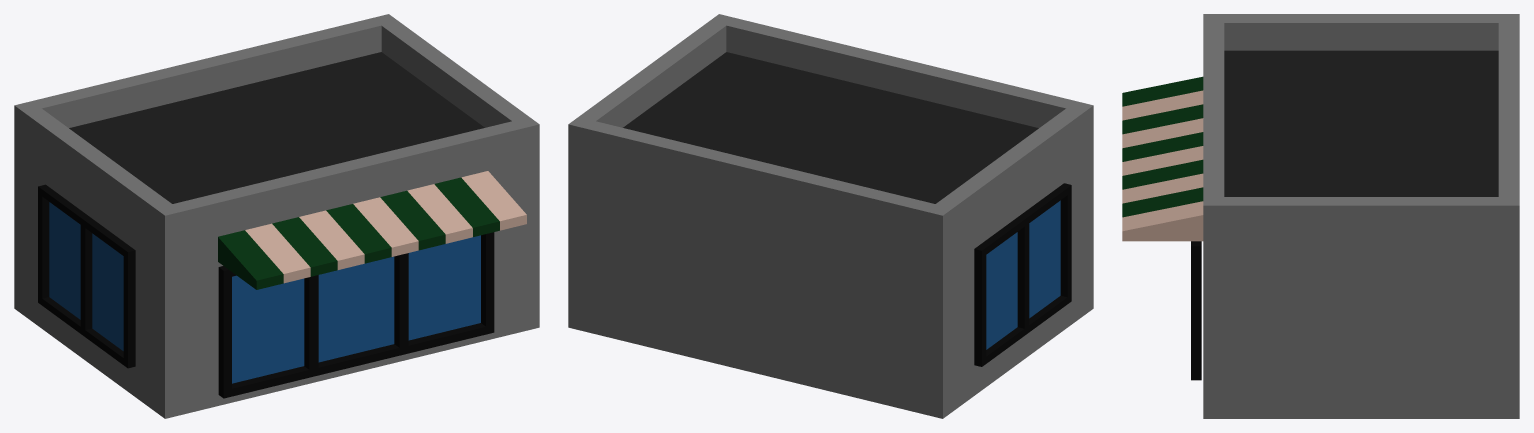
The picture shows the model from 3 angles, left to right: view 1: azimuth 30°, elevation 25°; view 2: azimuth 150°, elevation 25°; view 3: azimuth 270°, elevation 25°; orthographic projection. The views are drawn at different scales.
Visible parts, largest first — view 1: Cube.058; view 2: Cube.058; view 3: Cube.058.
Boxes of the visible parts, bbox=[...] form: Cube.058: bbox=[14, 14, 539, 418]; Cube.058: bbox=[568, 14, 1093, 418]; Cube.058: bbox=[1122, 14, 1519, 418].
Size of the model in its own units: 1153 by 990 by 586.
